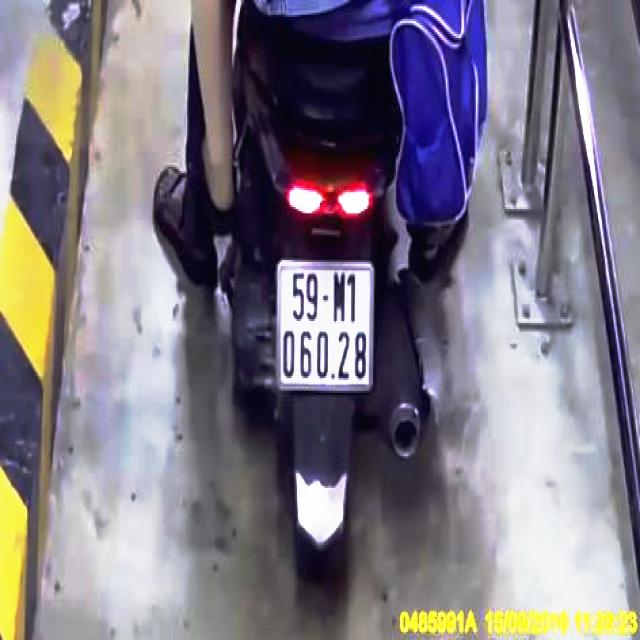license_plate: (280, 264, 373, 387)
